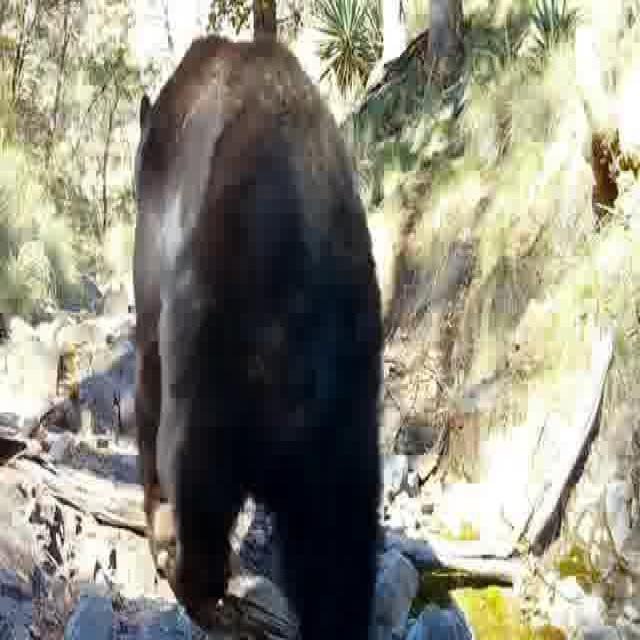bear face: (135, 26, 384, 640)
